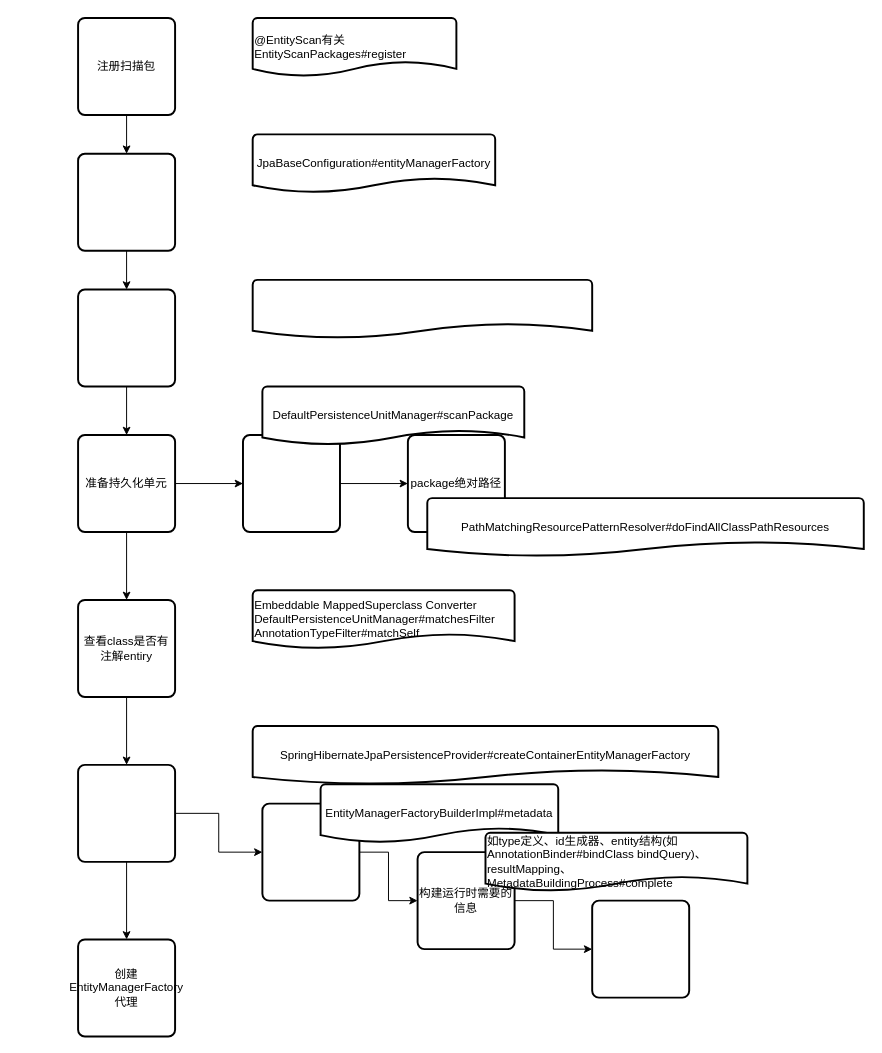
The diagram is 882 pixels wide and 1053 high, and some of its shapes have lost their labels. Here are the shapes that lost their labels. From the top down, the centre of each, then its label:
At (x=126, y=201): "产生LocalContainerEntityManagerFactoryBean实例".
At (x=422, y=308): "localContainerEntityManagerFactoryBean.afterPropertiesSet()".
At (x=126, y=337): "开始构建jpa".
At (x=291, y=483): "扫描给定的package".
At (x=126, y=812): "createContainerEntityManagerFactory".
At (x=310, y=851): "构建metadata".
At (x=640, y=948): "创建sessionFactory".
